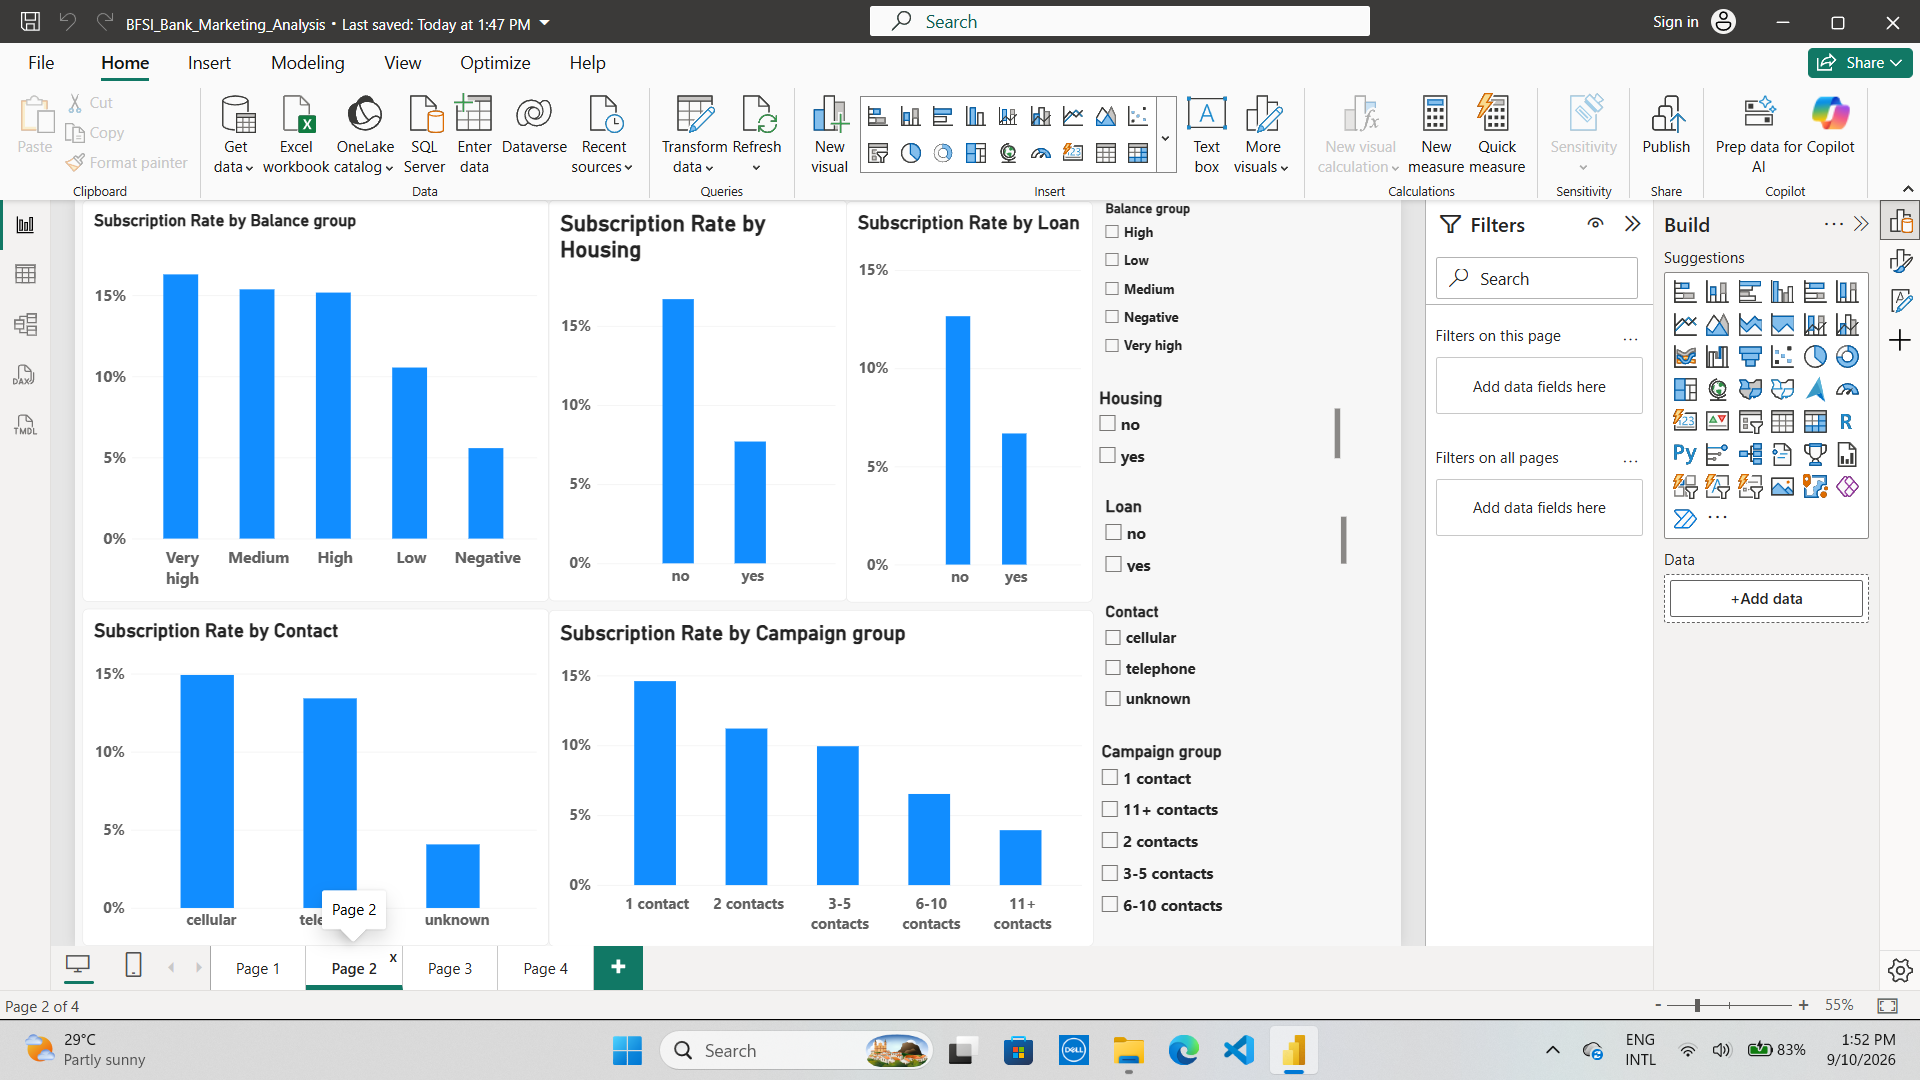

Layout of this report page (visuals, bound fields, positions):
{"tool":"powerbi","page":{"name":"Page 2","canvas":[1920,1080],"ordinal":1},"visuals":[{"type":"clusteredColumnChart","fields":{"Category":["Bank Dataset.Balance group"],"Y":["Bank Dataset.Subscription Rate"]},"box":[10.7,0,675.4,582],"z":0},{"type":"clusteredColumnChart","fields":{"Category":["Bank Dataset.Housing"],"Y":["Bank Dataset.Subscription Rate"]},"box":[685,0,432.3,580.8],"z":1},{"type":"clusteredColumnChart","fields":{"Category":["Bank Dataset.Loan"],"Y":["Bank Dataset.Subscription Rate"]},"box":[1117.3,2.6,356.8,580.8],"z":2},{"type":"clusteredColumnChart","fields":{"Category":["Bank Dataset.Contact"],"Y":["Bank Dataset.Subscription Rate"]},"box":[11,592,675,488],"z":3},{"type":"clusteredColumnChart","fields":{"Category":["Bank Dataset.Campaign group"],"Y":["Bank Dataset.Subscription Rate"]},"box":[685,593.8,789.2,487],"z":4},{"type":"slicer","fields":{"Values":["Bank Dataset.Balance group"]},"box":[1484.6,2.6,356.8,242.2],"z":5},{"type":"slicer","fields":{"Values":["Bank Dataset.Housing"]},"box":[1474.1,270.9,356.8,114.6],"z":6},{"type":"slicer","fields":{"Values":["Bank Dataset.Loan"]},"box":[1484.6,429.7,356.8,109.4],"z":7},{"type":"slicer","fields":{"Values":["Bank Dataset.Contact"]},"box":[1484.6,583.4,356.8,174.5],"z":8},{"type":"slicer","fields":{"Values":["Bank Dataset.Campaign group"]},"box":[1479.4,784,357,298],"z":9}]}

Visuals, with their boxes on the page's 1920x1080 design canvas (x1, y1, x2, y2). These are canvas units, not pixel positions in the 1920x1080 screenshot, which may show the page scaled, cropped or inside an application window:
clusteredColumnChart - Bank Dataset.Balance group x Bank Dataset.Subscription Rate: {"left": 11, "top": 0, "right": 686, "bottom": 582}
clusteredColumnChart - Bank Dataset.Housing x Bank Dataset.Subscription Rate: {"left": 685, "top": 0, "right": 1117, "bottom": 581}
clusteredColumnChart - Bank Dataset.Loan x Bank Dataset.Subscription Rate: {"left": 1117, "top": 3, "right": 1474, "bottom": 583}
clusteredColumnChart - Bank Dataset.Contact x Bank Dataset.Subscription Rate: {"left": 11, "top": 592, "right": 686, "bottom": 1080}
clusteredColumnChart - Bank Dataset.Campaign group x Bank Dataset.Subscription Rate: {"left": 685, "top": 594, "right": 1474, "bottom": 1081}
slicer - Bank Dataset.Balance group: {"left": 1485, "top": 3, "right": 1841, "bottom": 245}
slicer - Bank Dataset.Housing: {"left": 1474, "top": 271, "right": 1831, "bottom": 386}
slicer - Bank Dataset.Loan: {"left": 1485, "top": 430, "right": 1841, "bottom": 539}
slicer - Bank Dataset.Contact: {"left": 1485, "top": 583, "right": 1841, "bottom": 758}
slicer - Bank Dataset.Campaign group: {"left": 1479, "top": 784, "right": 1836, "bottom": 1082}
